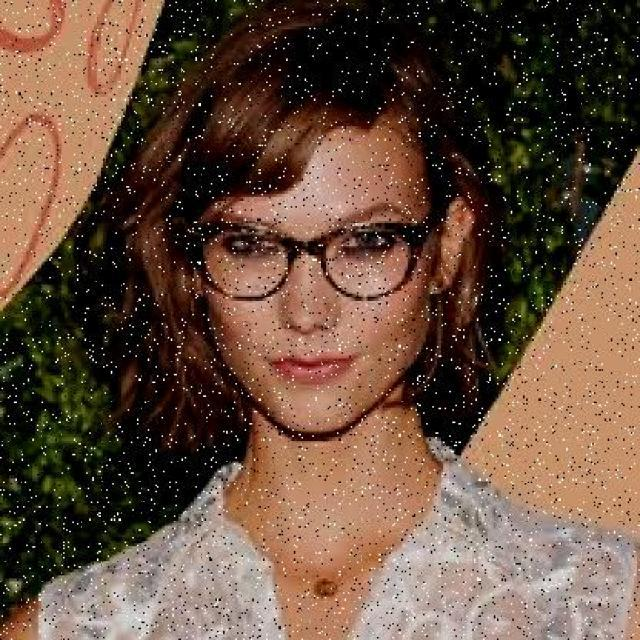glasses: (184, 212, 430, 302)
